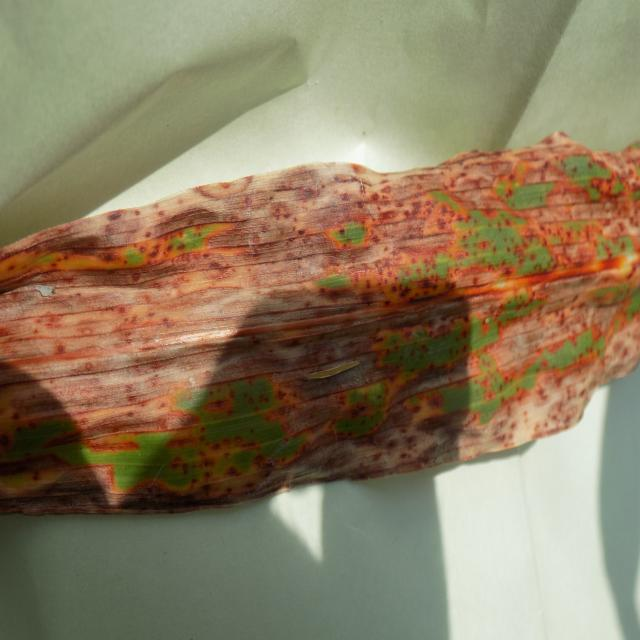millet_rust: (0, 161, 639, 508)
